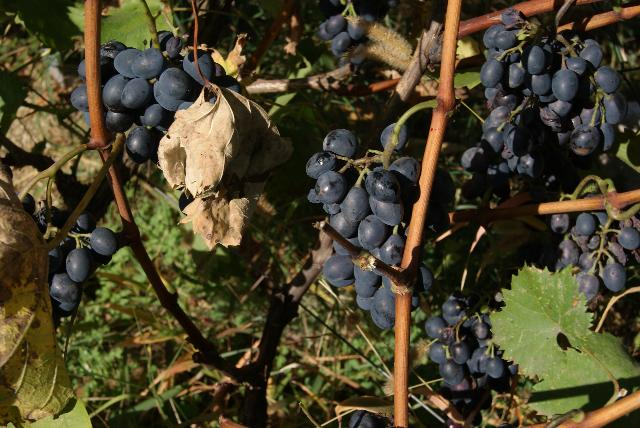grapes: (461, 9, 628, 189), (306, 125, 421, 266), (100, 32, 204, 162), (425, 292, 518, 408), (540, 202, 640, 301), (49, 211, 120, 326), (322, 240, 395, 329)
